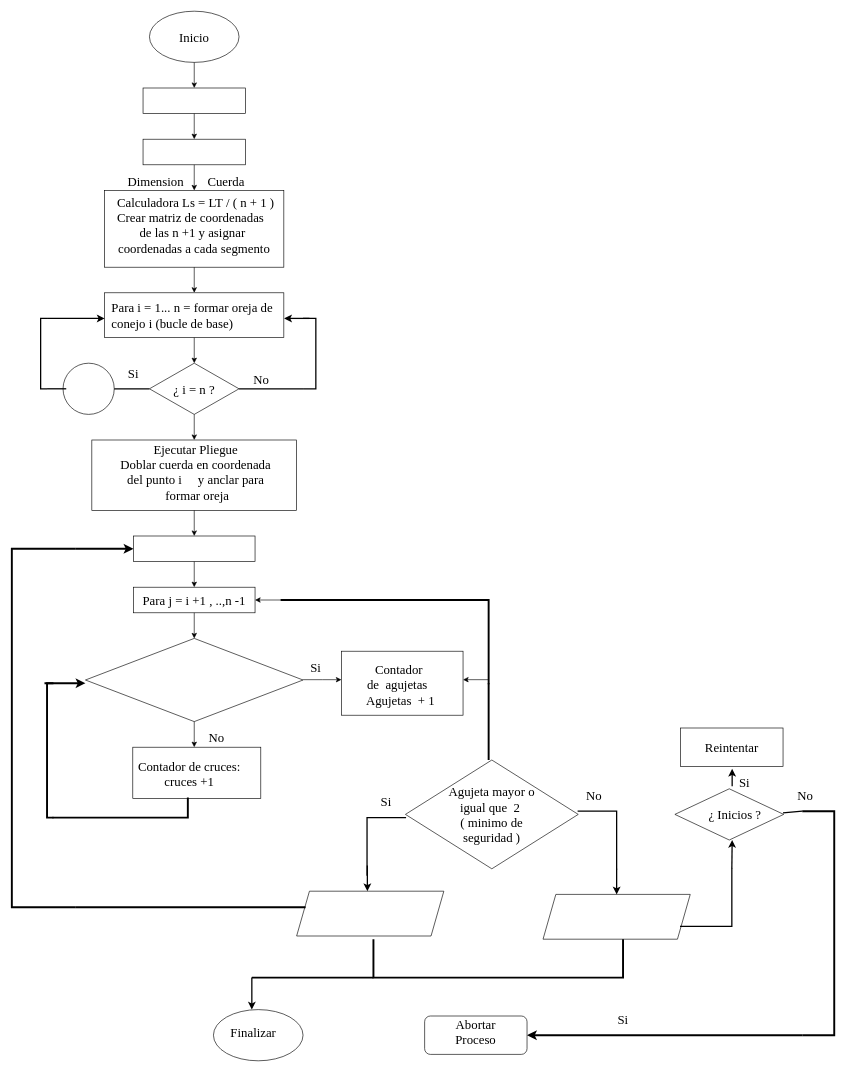
Image size: 852x1072. Some labels were removed from this diagram. Each missing label, with the centre of its shape:
"Cerrar Nudo Final y Apretar" belongs at point (370, 913).
"Ingresar LT" belongs at point (193, 152).
"Ingresar N" belongs at point (193, 100).
"Nudos" belongs at point (88, 388).
"Para i = ,.... n -1" belongs at point (194, 548).
"Rehacer Nudo" belongs at point (616, 916).
"¿ Intersección [I , J ] es mecanicamente segura ( Agujeta) ?" belongs at point (194, 680).
